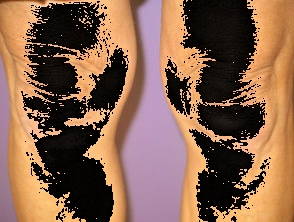vitiligo: (0, 0, 133, 222), (161, 0, 292, 222)
